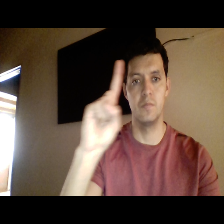2T: (77, 53, 130, 153)
